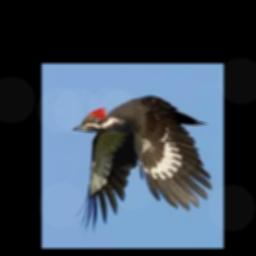Woodpecker: (73, 95, 211, 234)
